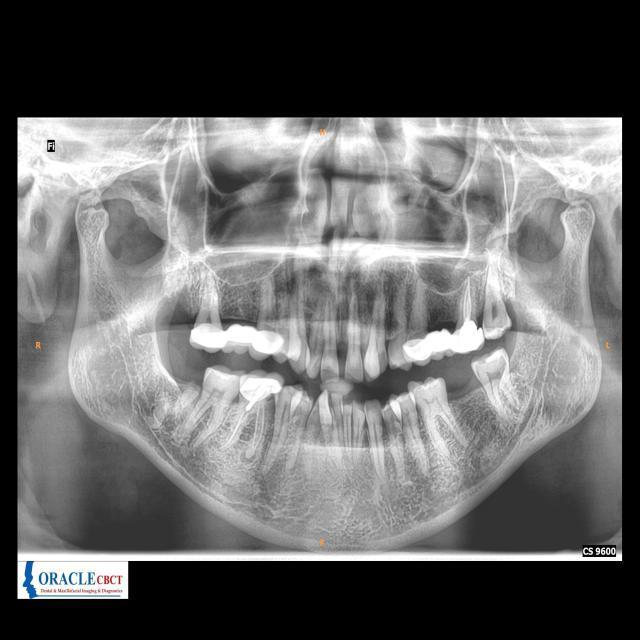kanal-tedavisi: (232, 405, 265, 453), (459, 272, 476, 324)
kaplama: (239, 371, 281, 406), (186, 320, 227, 354), (254, 328, 286, 360), (453, 321, 485, 353), (404, 338, 434, 364)
kopru: (216, 313, 266, 356), (414, 322, 471, 356)
